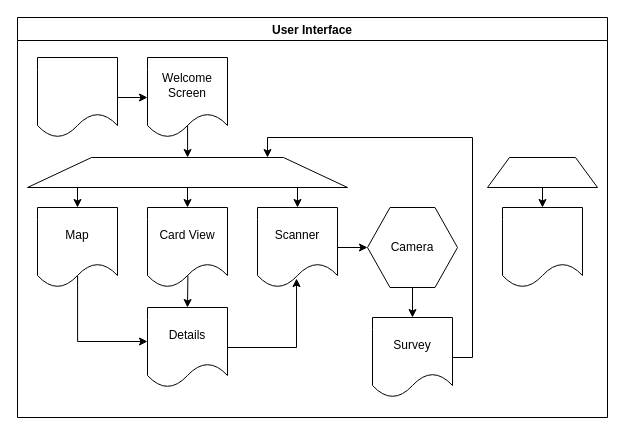
Some shapes in this 625 by 435 pixel diagram are drawn without their labels. Each missing label, with the centre of its shape:
"Menu" belongs at (542,172).
"Nav Bar" belongs at (187,172).
"Options" belongs at (542,247).
"Splash Screen" belongs at (77,97).
